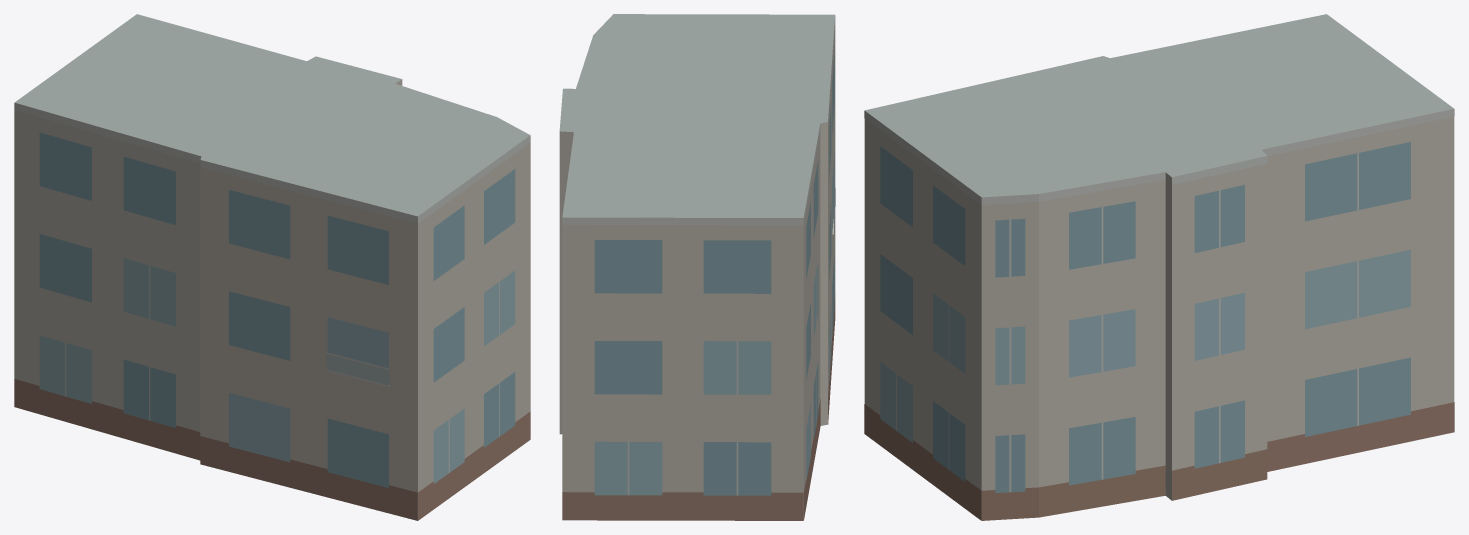
The model's file is survey-upis-32630819.glb.
The picture shows the model from 3 angles, left to right: view 1: azimuth 30°, elevation 25°; view 2: azimuth 150°, elevation 25°; view 3: azimuth 270°, elevation 25°; orthographic projection. The views are drawn at different scales.
Parts seen in each view (by area): view 1: survey-upis-32630819.tmp; view 2: survey-upis-32630819.tmp; view 3: survey-upis-32630819.tmp.
Part boxes in pixels (box(x1,y1,x2,y2)): survey-upis-32630819.tmp: box(14, 14, 530, 520); survey-upis-32630819.tmp: box(559, 14, 835, 520); survey-upis-32630819.tmp: box(864, 14, 1454, 520).
Bounding box in the file's own units: 12.41 × 10.2 × 16.87.
